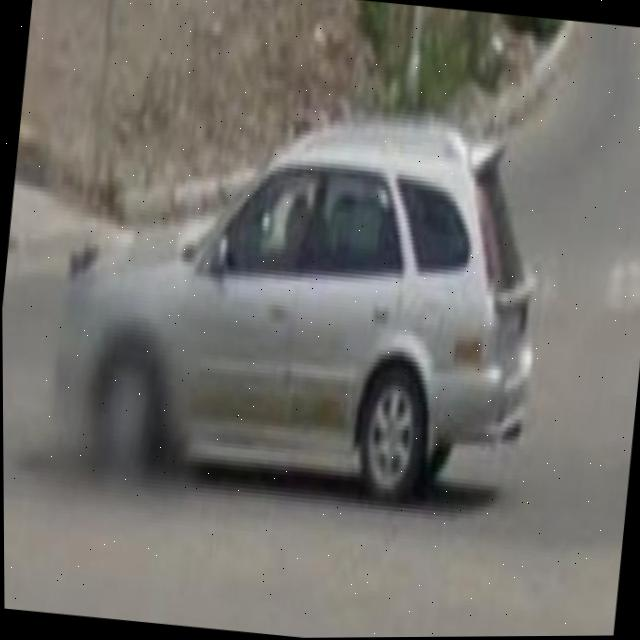vehicle: (53, 134, 558, 520)
